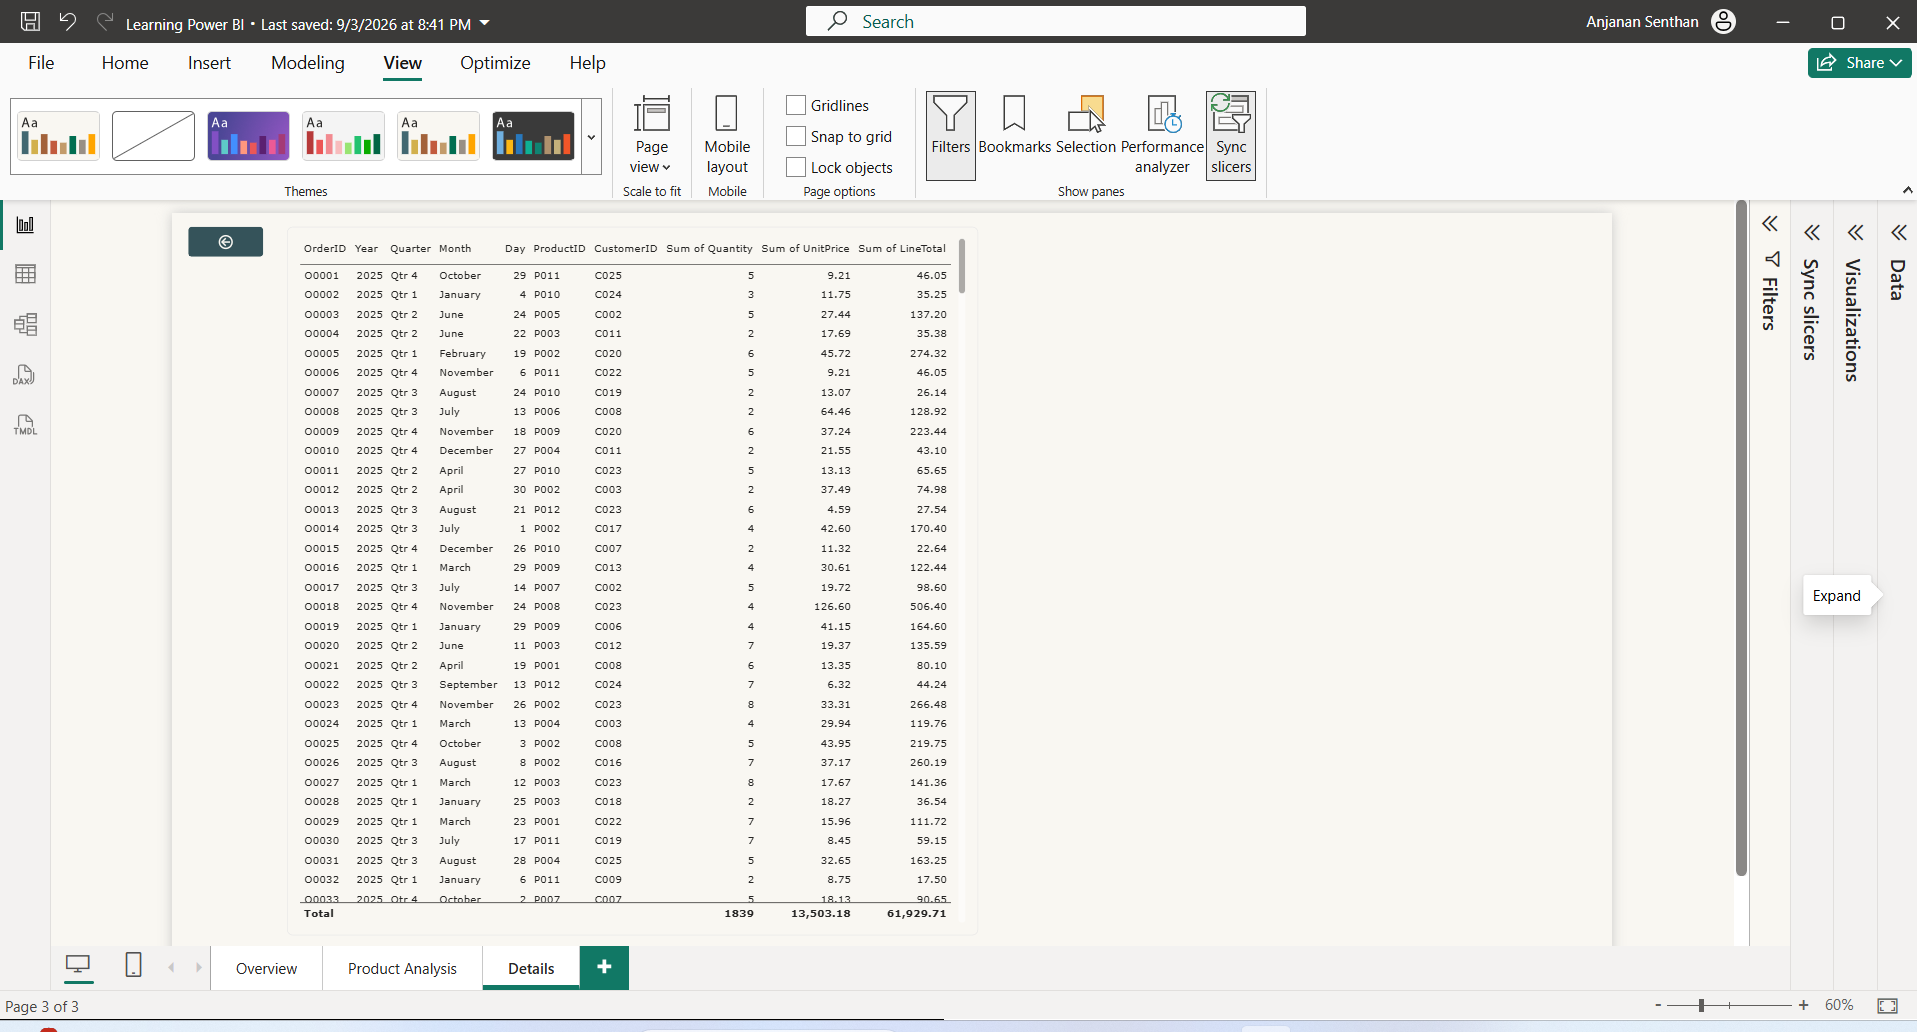

The page's visual inventory and layout, read from the dashboard file:
{"tool":"powerbi","page":{"name":"Details","canvas":[1920,1080],"ordinal":2},"visuals":[{"type":"tableEx","fields":{"Values":["Sales.OrderID","Sales.Date.Variation.Date Hierarchy.Year","Sales.Date.Variation.Date Hierarchy.Quarter","Sales.Date.Variation.Date Hierarchy.Month","Sales.Date.Variation.Date Hierarchy.Day","Sales.ProductID","Sales.CustomerID","Sum(Sales.Quantity)","Sum(Sales.UnitPrice)","Sum(Sales.LineTotal)"]},"box":[153.3,18.3,921.7,945],"z":0},{"type":"actionButton","box":[21.7,18.3,100,40],"z":1}]}

Visuals, with their boxes on the page's 1920x1080 design canvas (x1, y1, x2, y2). These are canvas units, not pixel positions in the 1917x1032 screenshot, which may show the page scaled, cropped or inside an application window:
tableEx - Sales.OrderID x Sales.Date.Variation.Date Hierarchy.Year: x1=153 y1=18 x2=1075 y2=963
actionButton: x1=22 y1=18 x2=122 y2=58
